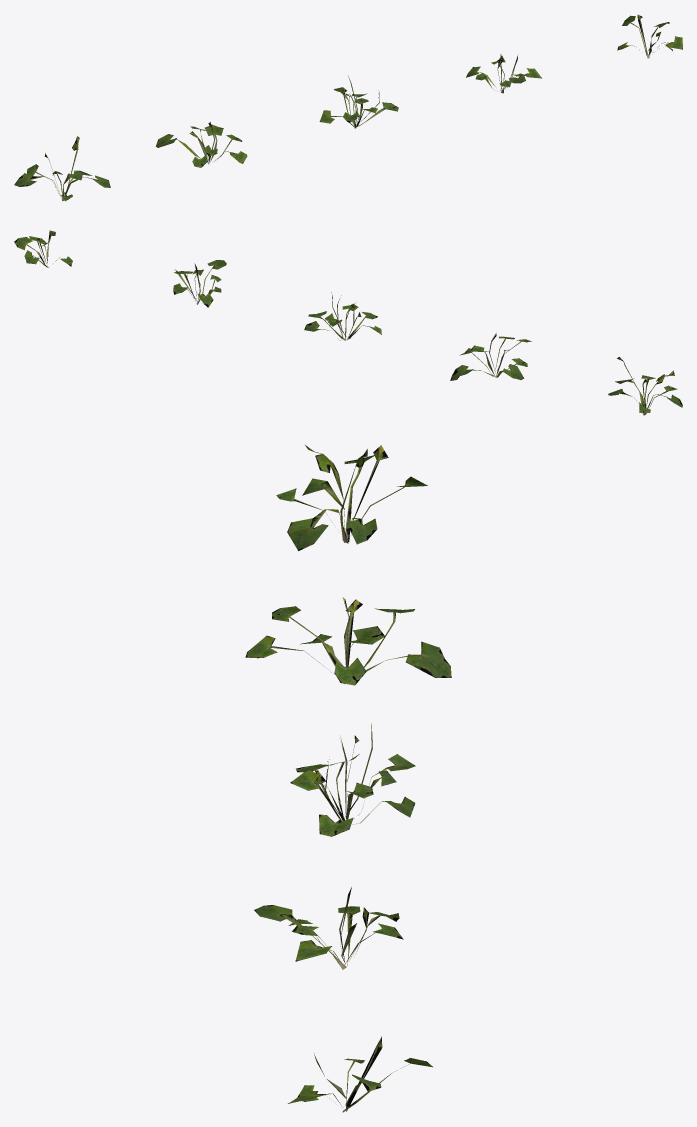
File: celandine_01.glb
The picture shows the model from 3 angles, top to bottom: view 1: azimuth 30°, elevation 25°; view 2: azimuth 150°, elevation 25°; view 3: azimuth 270°, elevation 25°; orthographic projection. The views are drawn at different scales.
Visible parts, largest first — view 1: celandine_01_a_LOD0; view 2: celandine_01_a_LOD0; view 3: celandine_01_a_LOD0.
Boxes of the visible parts, <box> form: celandine_01_a_LOD0: <box>14,14,682,201</box>; celandine_01_a_LOD0: <box>14,230,682,415</box>; celandine_01_a_LOD0: <box>245,445,451,1112</box>.
Bounding box in the file's own units: 2.24 × 0.185 × 0.3051.
1 material, 1 textured.
